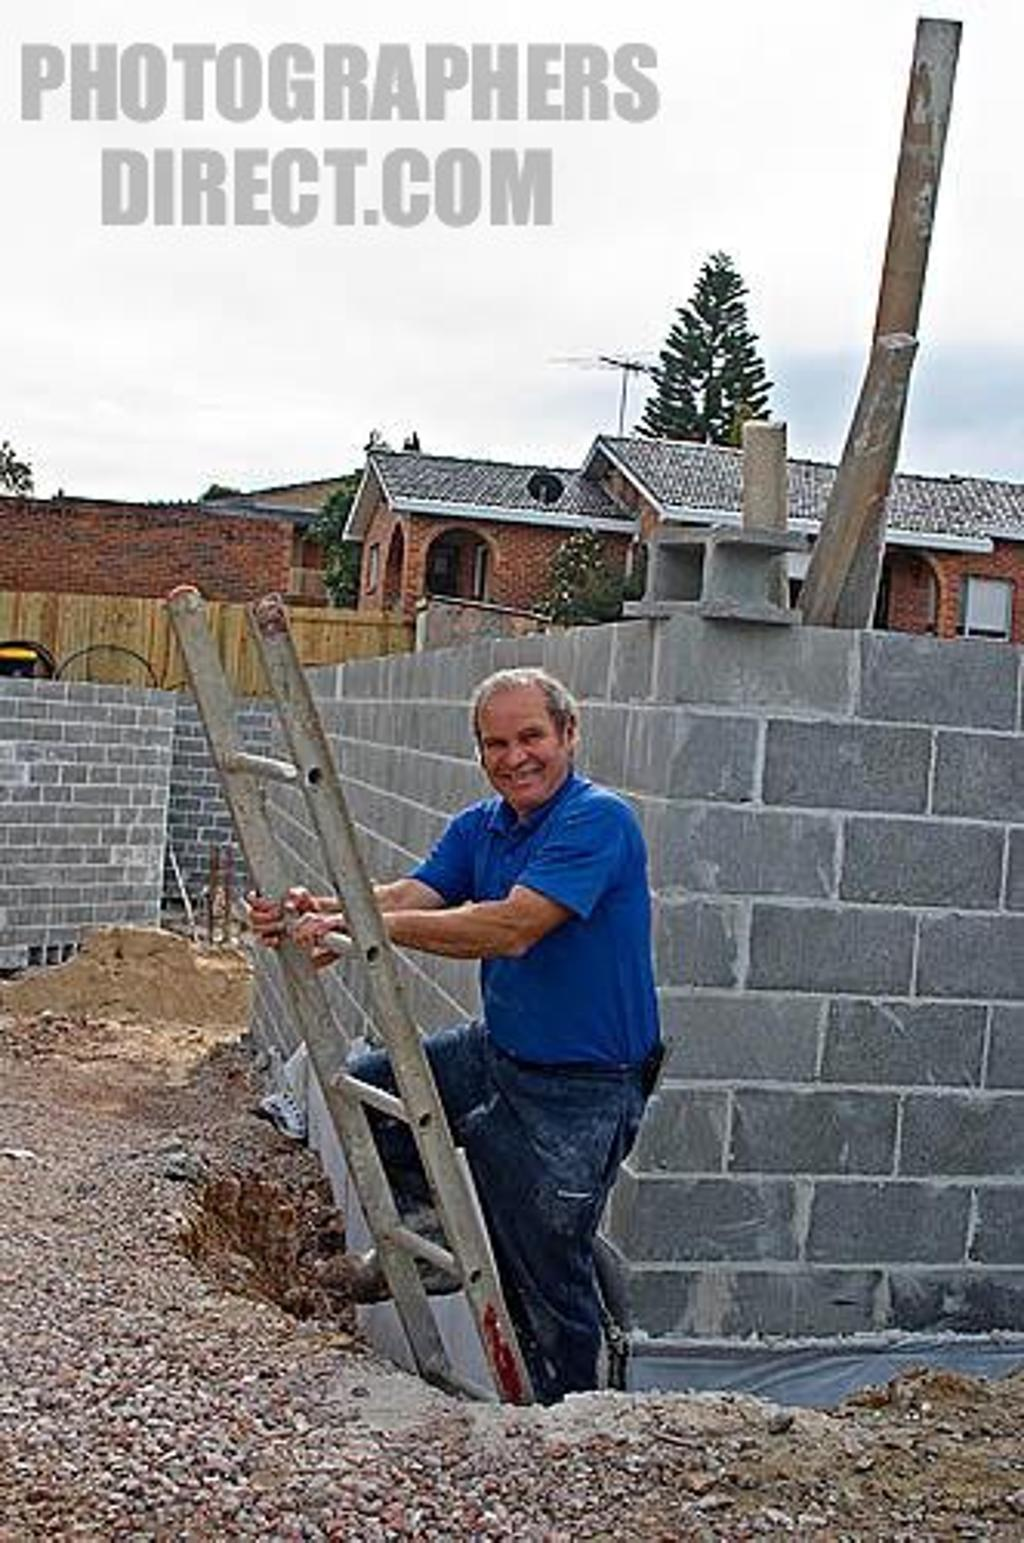face: (482, 684, 560, 801)
